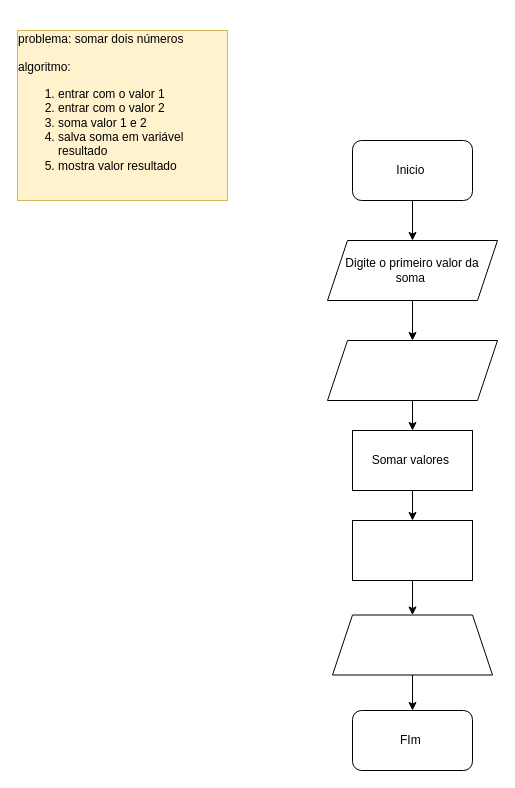
The diagram is 515 pixels wide and 788 high, and some of its shapes have lost their labels. Each missing label, with the centre of its shape:
Digite o segundo valor da soma: pixel 412 370
Exibir na tela a resultado: pixel 412 644
salvar soma em variável resultado: pixel 412 550
